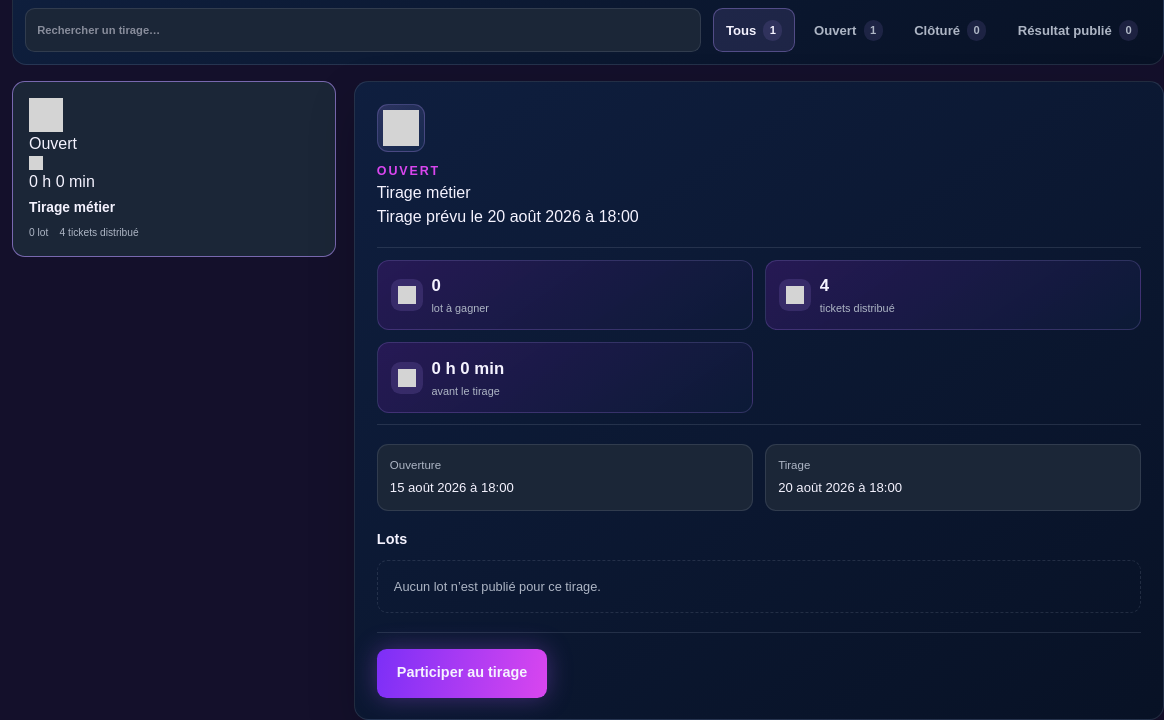
Scenario: ListeTirages › conserve une erreur métier sans redirection
(page scrolled)
Click the button "Participer au tirage": (462, 673) [377,649,547,698]
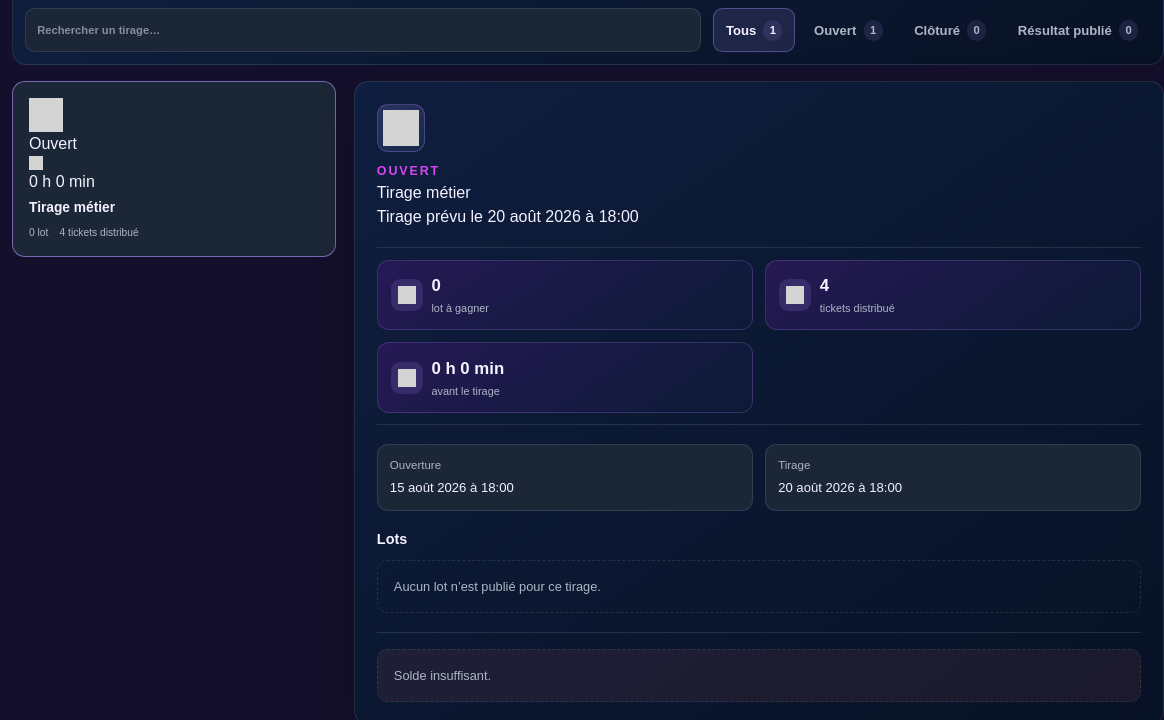
Expected: the text "Solde insuffisant." is shown, [377,649,1141,702]
